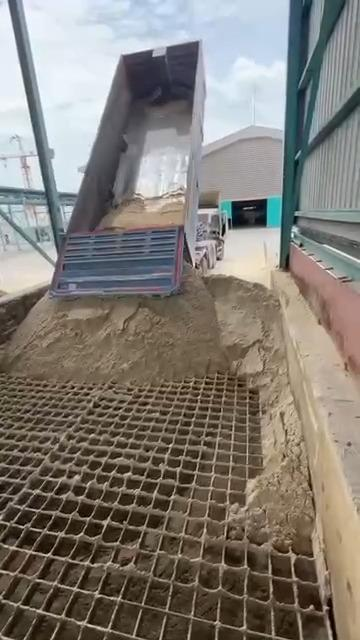sand: (5, 271, 313, 552), (207, 276, 313, 552), (6, 270, 228, 383), (98, 189, 184, 229)
